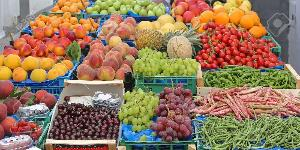apple: (164, 1, 212, 24)
apricot: (31, 14, 95, 30), (48, 0, 86, 14)
grape: (121, 88, 191, 142), (139, 47, 193, 83)
orange: (192, 5, 264, 37)
peach: (76, 43, 134, 83), (8, 31, 86, 57), (0, 90, 56, 124), (0, 57, 72, 81), (101, 13, 139, 41)
pear: (86, 1, 170, 16)
tomato: (196, 22, 284, 70)
